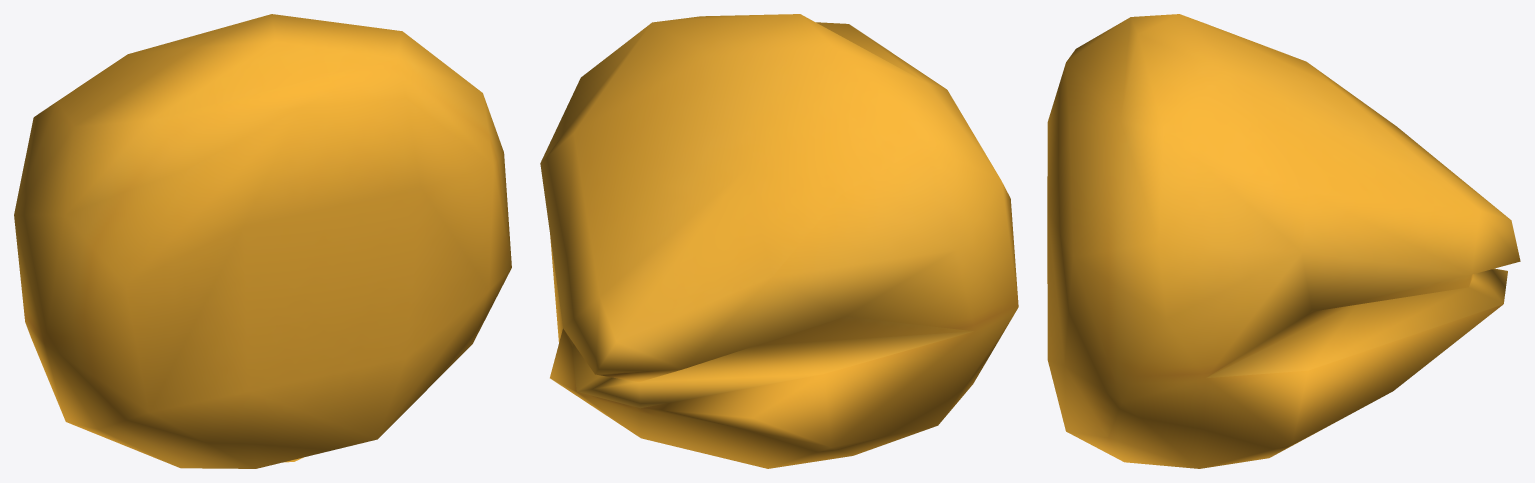
The picture shows the model from 3 angles, left to right: view 1: azimuth 30°, elevation 25°; view 2: azimuth 150°, elevation 25°; view 3: azimuth 270°, elevation 25°; orthographic projection. The views are drawn at different scales.
Size of the model in its own units: 1.16 by 1.01 by 1.05.
Materials: 1 (1 with a texture image).
